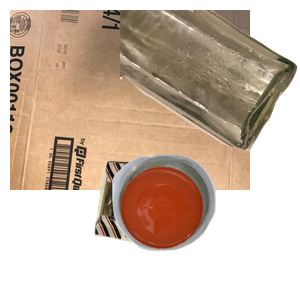cardboard: (10, 10, 250, 190)
glass: (120, 10, 300, 153)
plastic: (110, 152, 300, 300)
trash: (92, 158, 277, 300)
